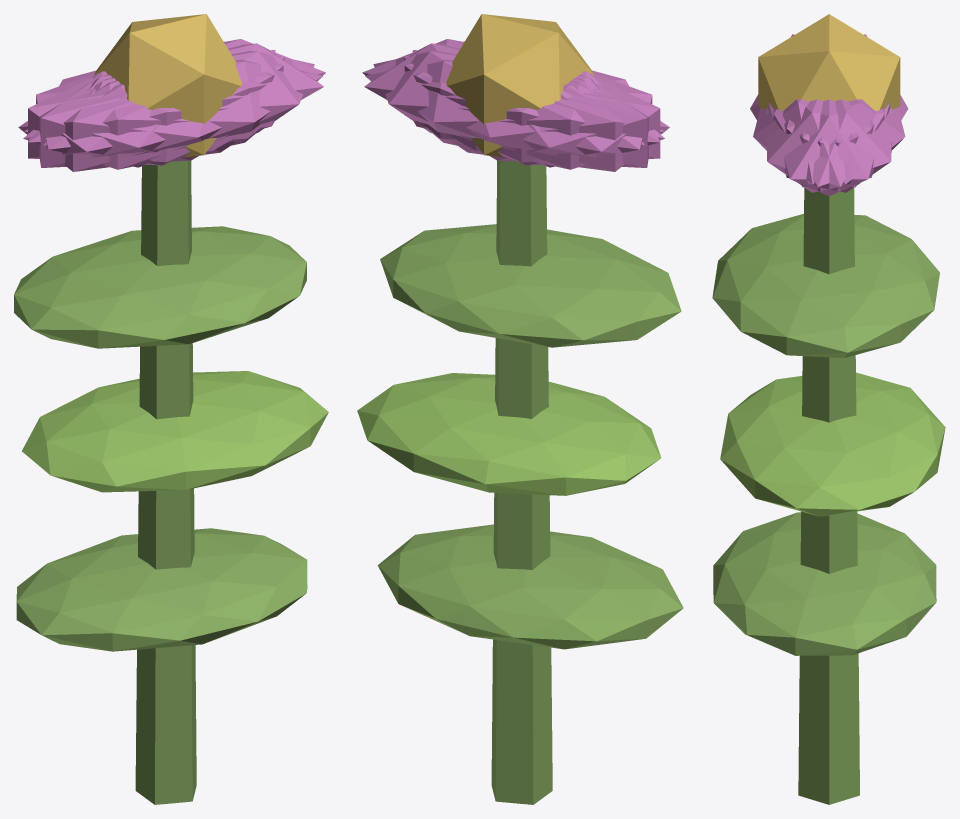
File: alternanthera-caracasana.glb
3 renders of one model, left to right at view 1: azimuth 30°, elevation 25°; view 2: azimuth 150°, elevation 25°; view 3: azimuth 270°, elevation 25°, orthographic.
Parts seen in each view (by area): view 1: leaf2, leaf0, leaf1, stem, center, petal1, petal6, petal2, petal5, petal7, petal0, petal4 (+2 smaller); view 2: leaf2, leaf1, leaf0, stem, center, petal8, petal3, petal7, petal4, petal2, petal0, petal5 (+2 smaller); view 3: leaf1, leaf2, leaf0, stem, center, petal0, petal4, petal5, petal8, petal1.
Boxes of the visible parts, x1,y1,x2,y2 form: leaf2: (14,226,306,348); leaf0: (16,528,307,651); leaf1: (22,371,328,492); stem: (135,160,196,804); center: (94,14,241,157); petal1: (23,59,322,169); petal6: (18,73,235,171); petal2: (39,50,275,167); petal5: (43,51,314,162); petal7: (28,56,284,165); petal0: (94,43,323,151); petal4: (24,39,325,142); leaf2: (380,224,681,347); leaf1: (357,373,661,495); leaf0: (377,524,683,649); stem: (491,160,552,804); center: (446,14,593,157); petal8: (365,59,664,169); petal3: (452,73,669,171); petal7: (412,50,648,167); petal4: (373,51,644,162); petal2: (404,56,660,165); petal0: (364,43,594,151); petal5: (362,39,663,142); leaf1: (720,372,945,516); leaf2: (712,214,939,357); leaf0: (713,512,936,655); stem: (798,188,859,804); center: (758,14,900,110); petal0: (768,99,889,196); petal4: (773,99,891,192); petal5: (766,99,884,192); petal8: (784,99,905,184); petal1: (753,99,873,184).
Size of the model in its own units: 0.1482 by 0.3612 by 0.1006.
